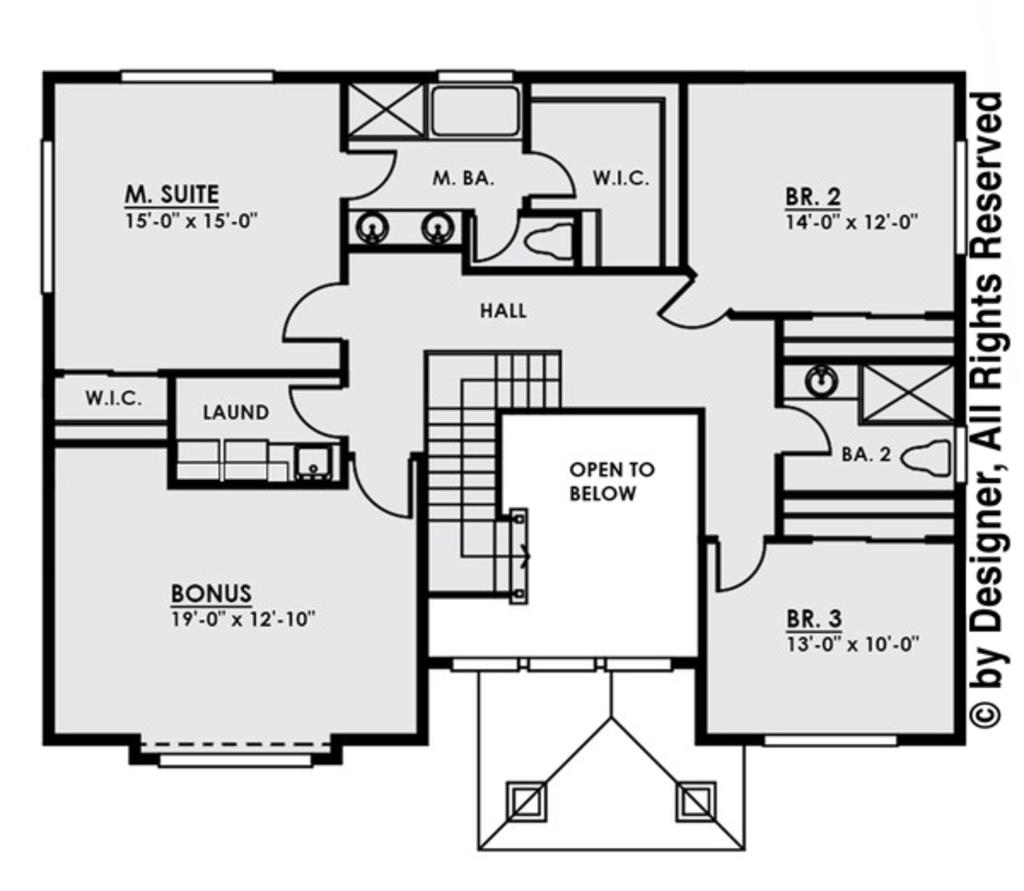door: (280, 271, 346, 351), (655, 275, 734, 339), (350, 449, 415, 516), (282, 379, 353, 440), (341, 150, 403, 206), (469, 199, 519, 262), (712, 536, 767, 593), (780, 399, 834, 456), (523, 151, 578, 203)
large_sink: (896, 434, 957, 482), (523, 217, 572, 263)
small_sink: (342, 207, 467, 252), (785, 359, 857, 403)
stairs: (416, 343, 573, 602)
tub: (420, 80, 531, 141)
window: (120, 66, 274, 89), (759, 730, 899, 752), (36, 143, 55, 291), (158, 749, 305, 766), (604, 649, 681, 679), (520, 651, 593, 674), (450, 657, 523, 675)
